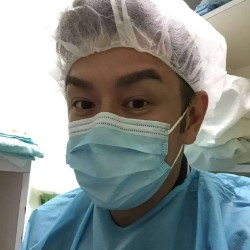mask: (66, 111, 176, 210)
